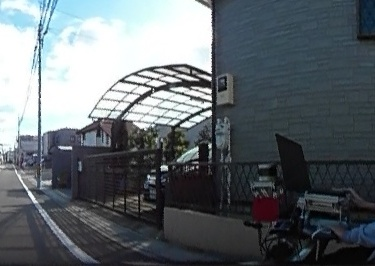person: (321, 71, 375, 266)
